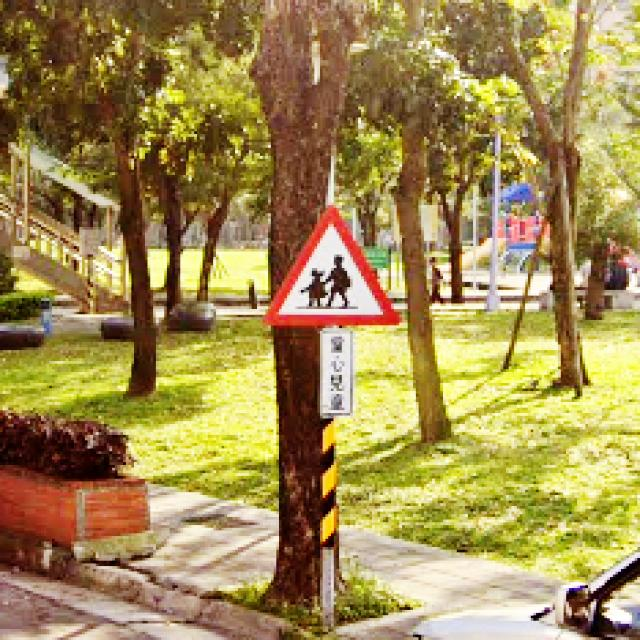childrencross: (265, 207, 398, 325)
